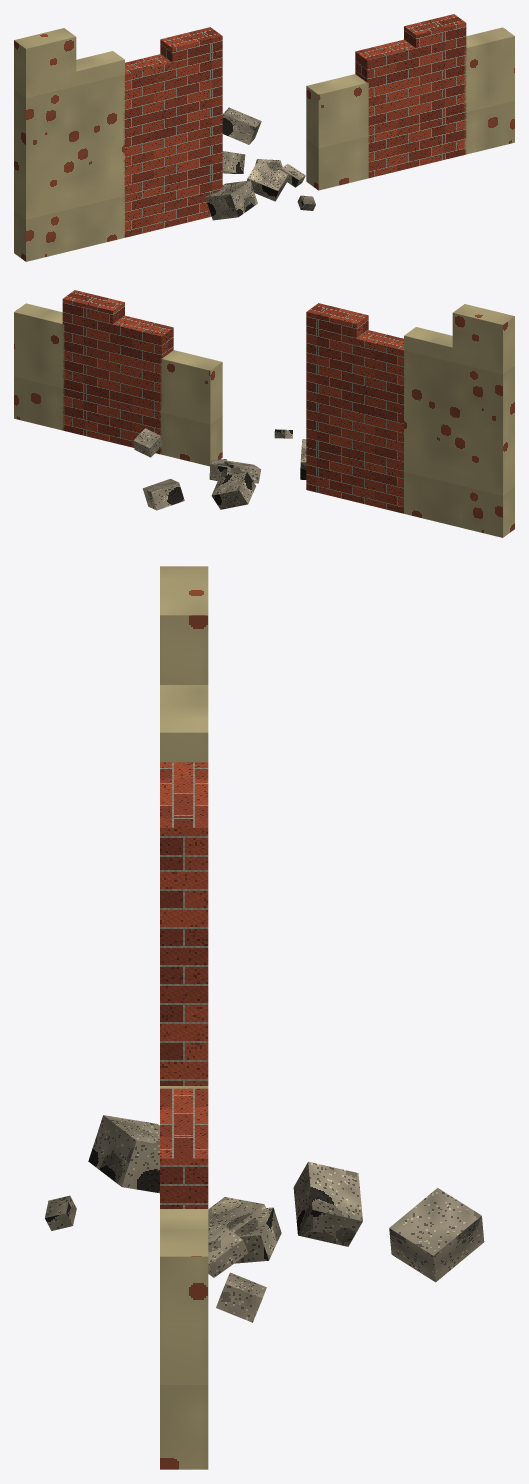
The model's file is wall_straight_door.glb.
3 renders of one model, top to bottom at view 1: azimuth 30°, elevation 25°; view 2: azimuth 150°, elevation 25°; view 3: azimuth 270°, elevation 25°, orthographic. The views are drawn at different scales.
Visible parts, largest first — view 1: wall_straight_door-col; view 2: wall_straight_door-col; view 3: wall_straight_door-col.
Boxes of the visible parts, x1,y1,x2,y2 form: wall_straight_door-col: (14, 14, 514, 261); wall_straight_door-col: (14, 290, 514, 537); wall_straight_door-col: (45, 566, 484, 1469).
Size of the model in its own units: 4.21 by 1.81 by 1.64.
Materials: 3 (3 with a texture image).
